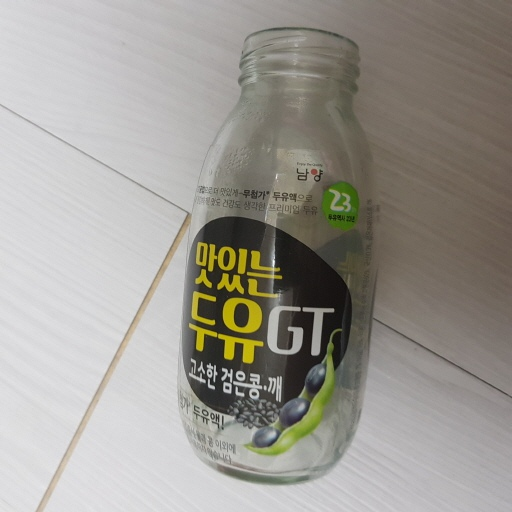Glass_4: (183, 23, 384, 485)
